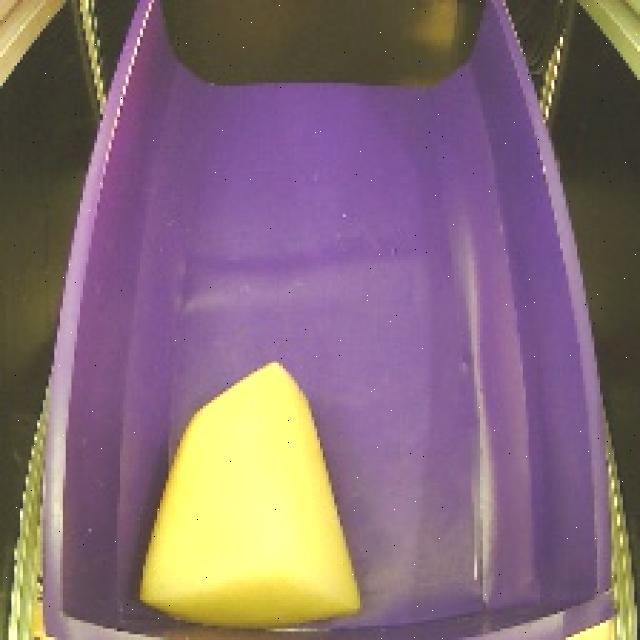potato: (130, 351, 374, 634)
